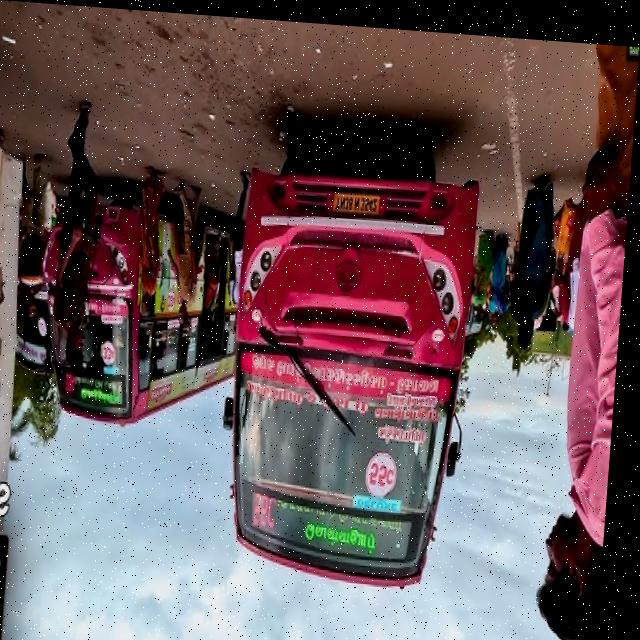plate: (331, 186, 385, 215), (0, 236, 3, 292)
